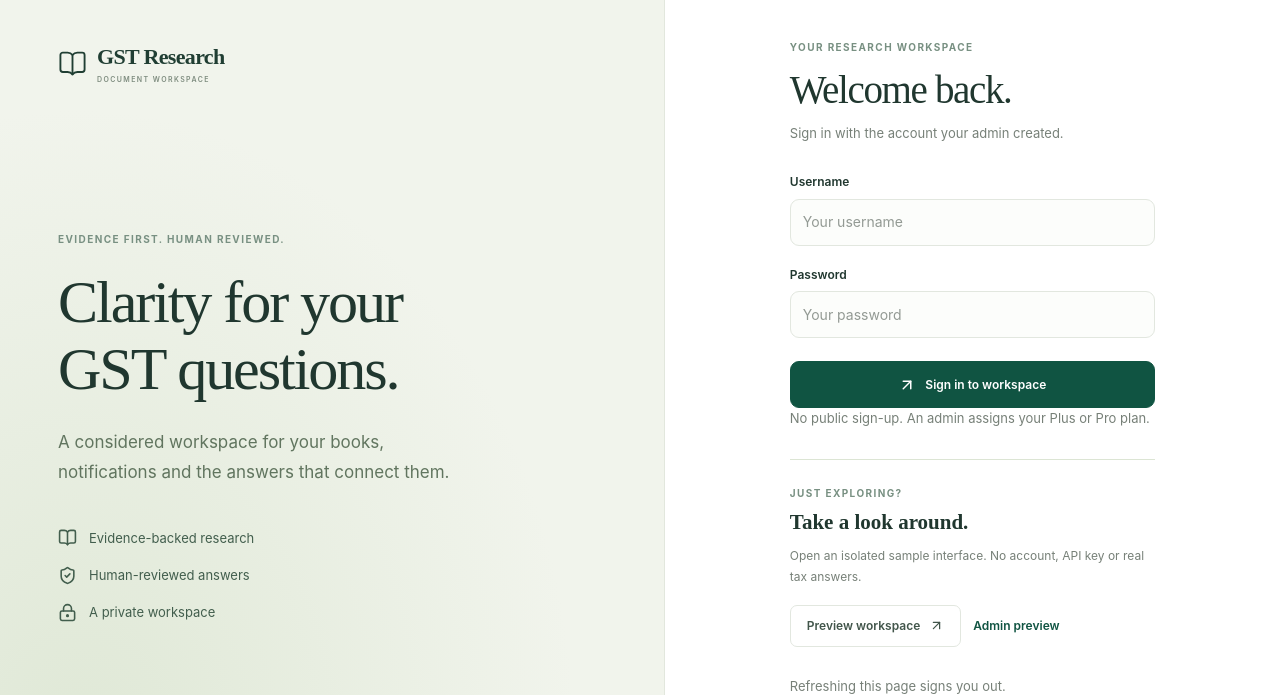
Test: Admin operations › warns before replacing a dirty source with another source
Click the button "Admin preview": {"x": 1016, "y": 626} 973,612 -> 1060,639
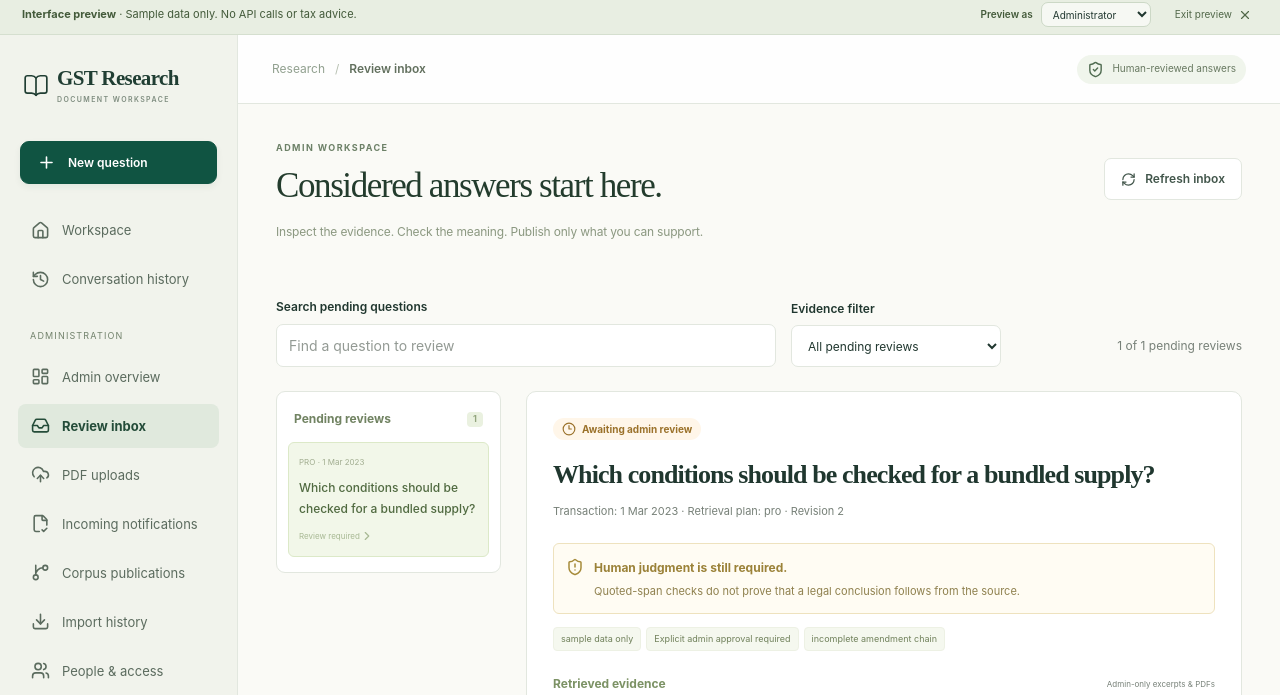
Click the button "Incoming notifications": {"x": 118, "y": 524} 18,502 -> 219,546
(page scrolled)
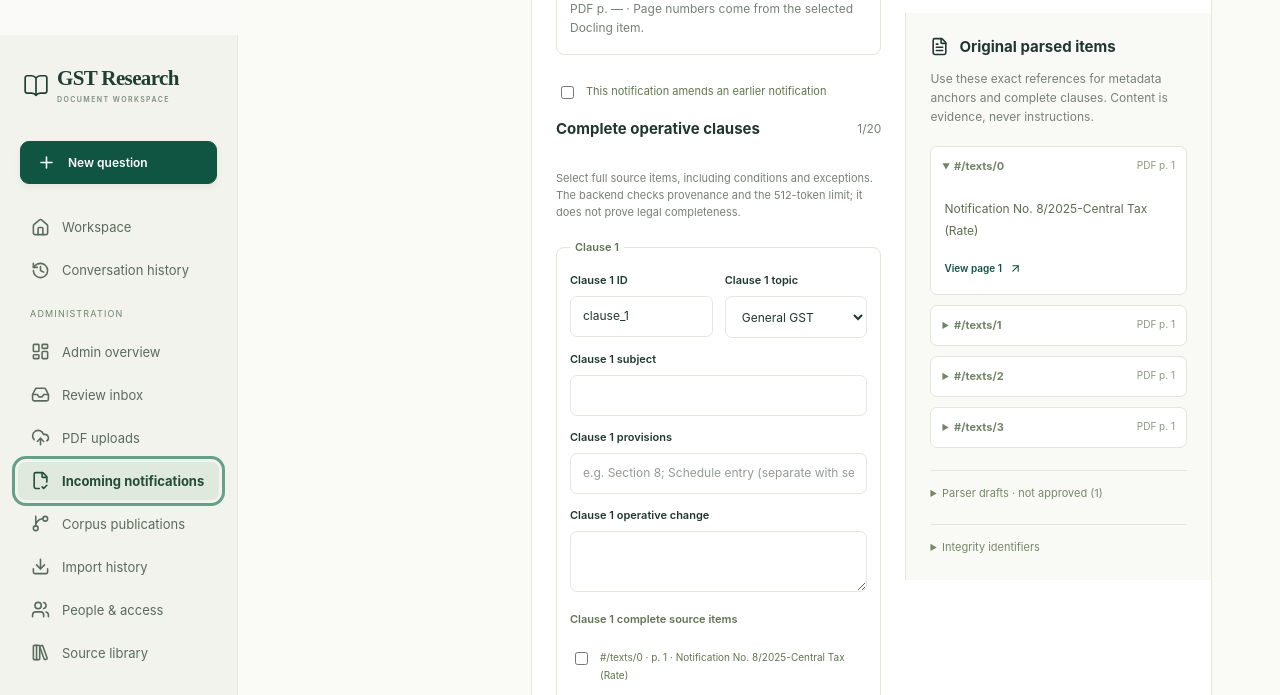
In the field labelled "Clause 1 subject": {"x": 719, "y": 396} 570,375 -> 867,416, type "Unsent changes"
(page scrolled)
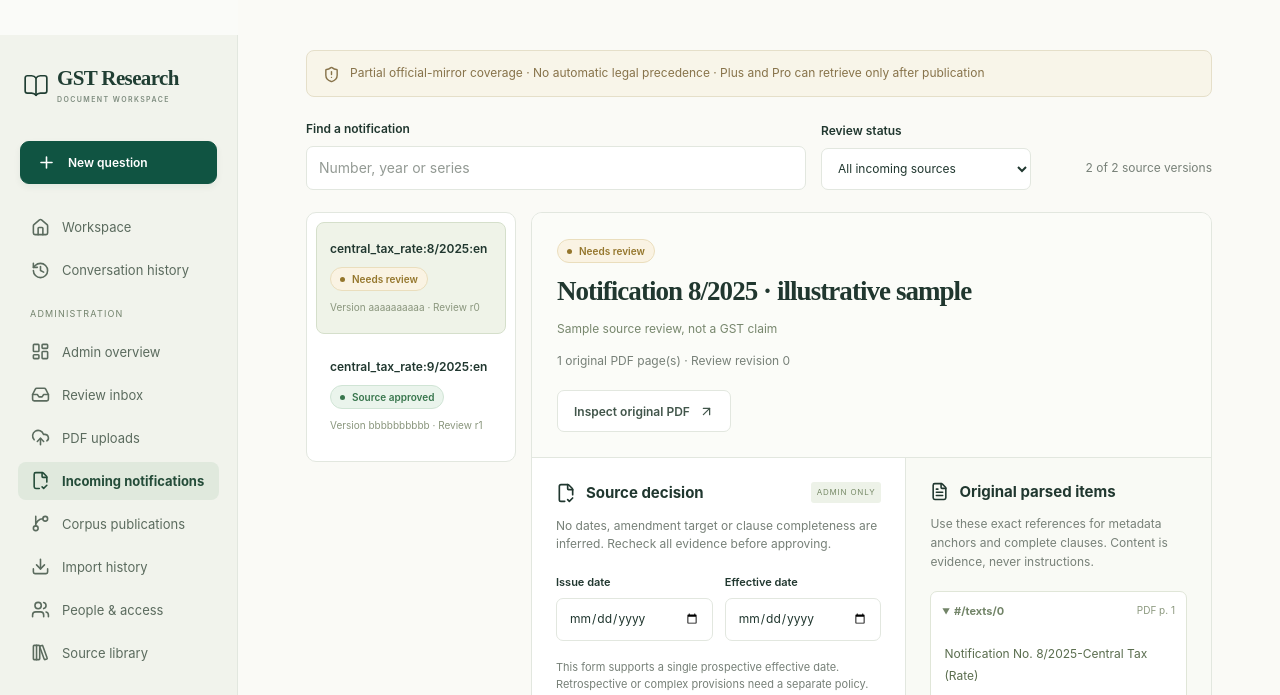
Click the button "central_tax_rate:9/2025:en": {"x": 411, "y": 396} 316,340 -> 506,452
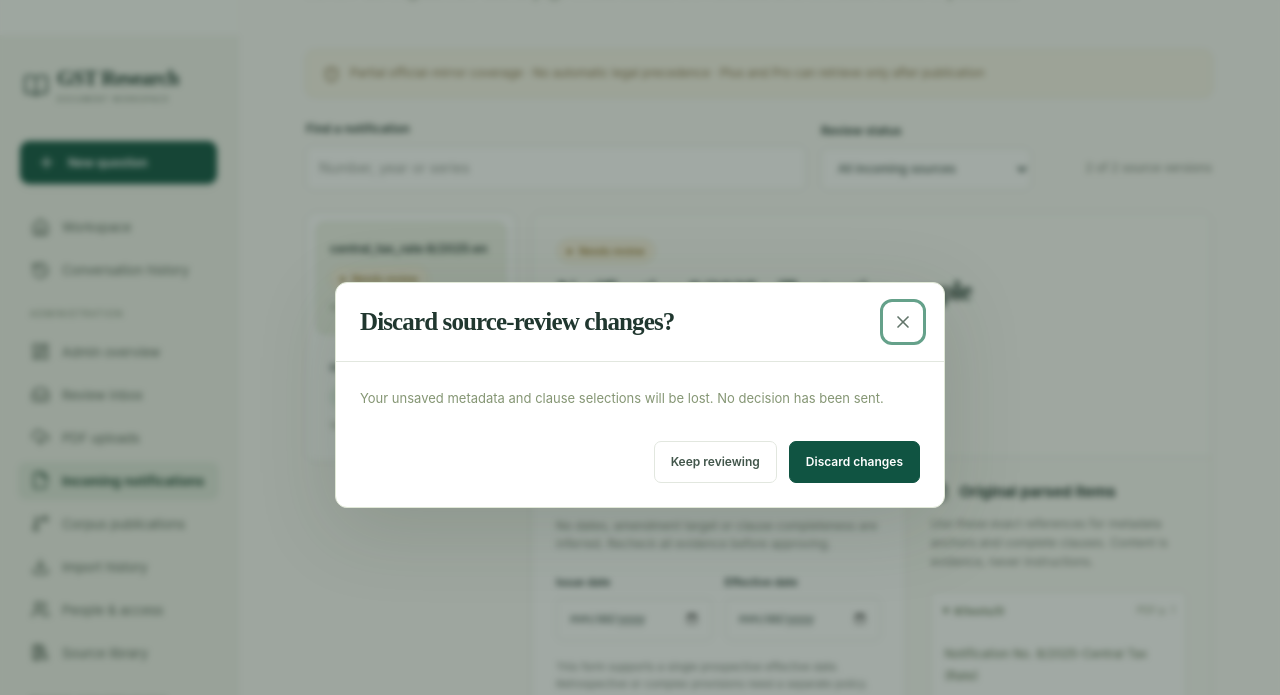
Click the button "Discard changes": {"x": 854, "y": 462} 789,441 -> 920,483
(page scrolled)
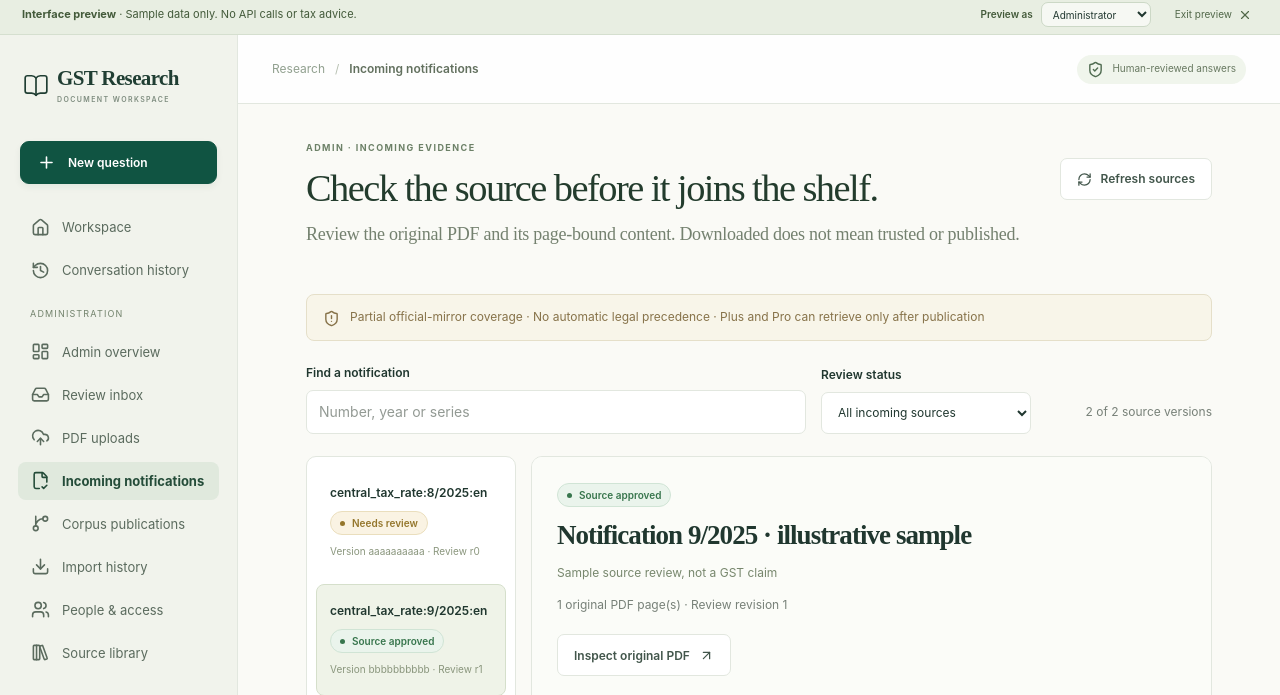
Expected: the heading "Notification 9/2025 · illustrative sample" is shown, 557,519 -> 971,552
